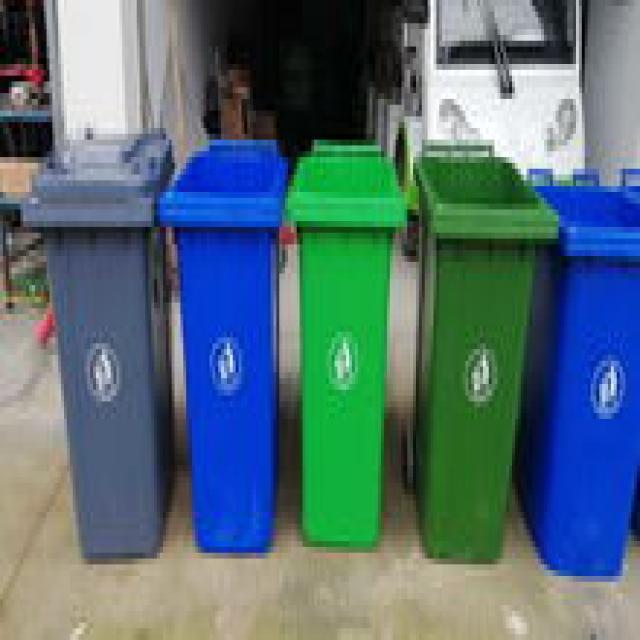garbage_bin: (20, 116, 172, 558), (410, 134, 553, 558), (154, 134, 279, 547), (279, 134, 402, 547), (521, 157, 637, 564)
